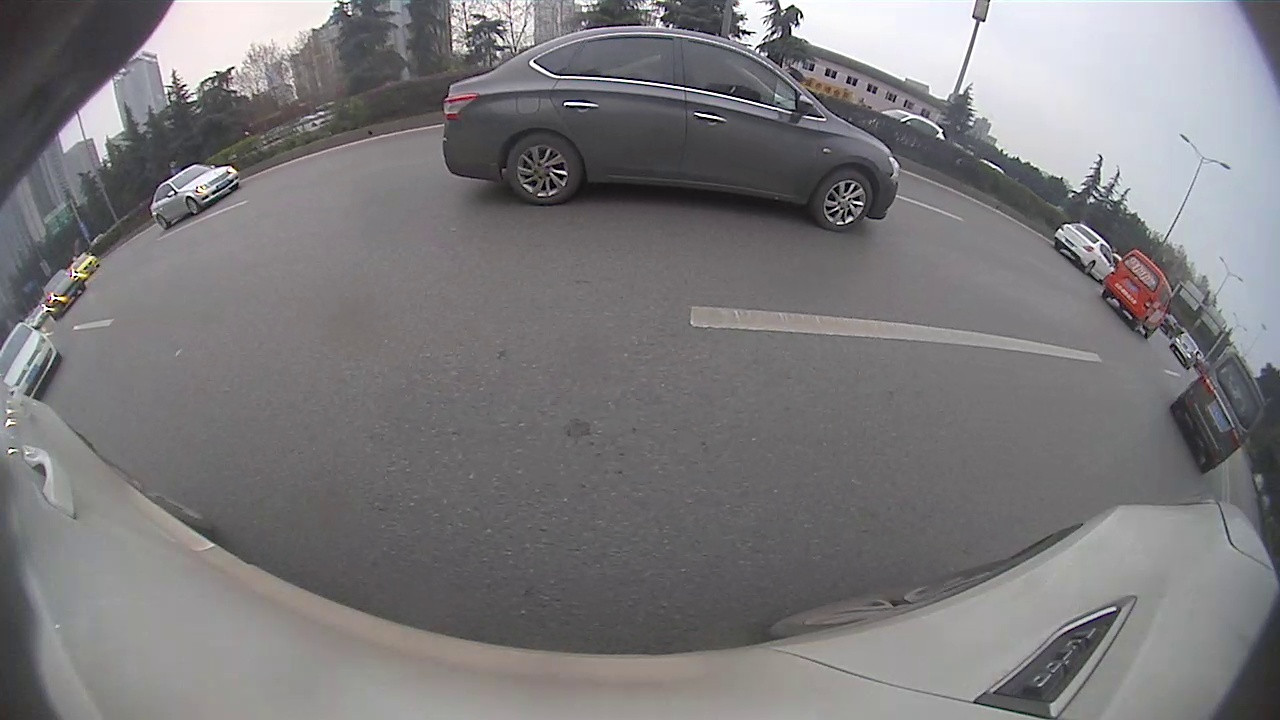car: (440, 24, 902, 232), (1169, 350, 1265, 475), (1103, 251, 1171, 341), (147, 164, 242, 228), (2, 324, 61, 400), (1053, 221, 1118, 280)
front: (811, 166, 877, 232), (185, 197, 201, 216)
rear: (503, 130, 584, 207), (155, 214, 170, 228)
